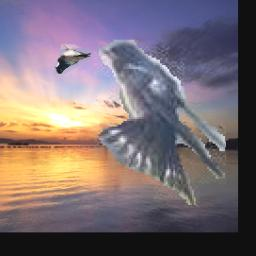Swallow: (94, 40, 226, 208), (56, 45, 92, 75)
